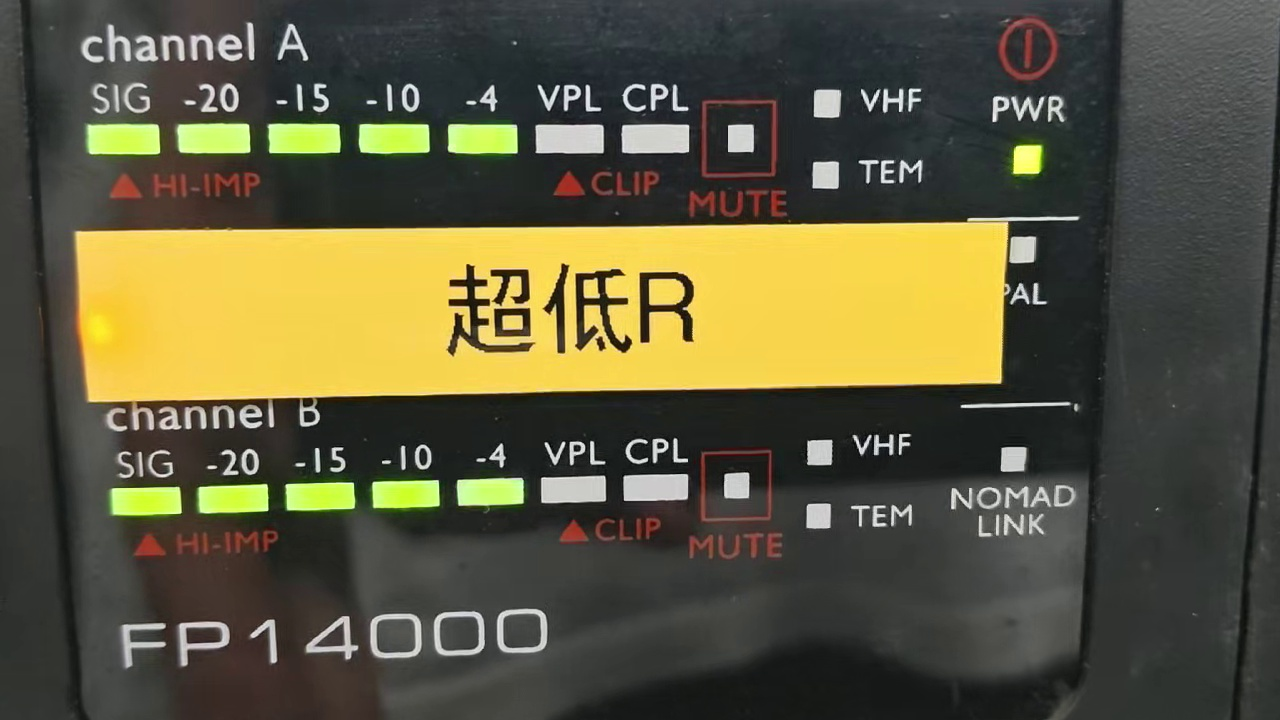FP_CPL: (610, 71, 698, 165), (618, 431, 693, 508)
FP_PWR: (979, 88, 1078, 183)
FP_PWR_area: (970, 9, 1083, 210)
FP_SIG_area: (77, 59, 935, 220), (91, 423, 937, 570)
FP_VPL: (526, 70, 611, 164), (535, 429, 618, 511)
